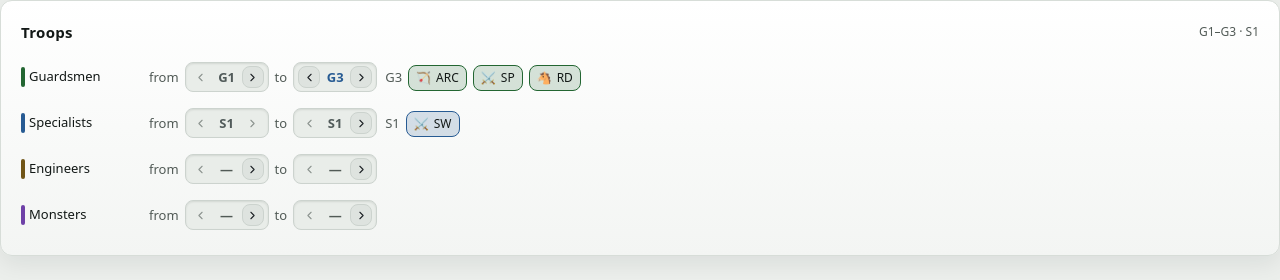
moving the top tier forgets the chips, because they described the tier below
Click the checkbox named "Rider III": (555, 78) [529,65,581,91]
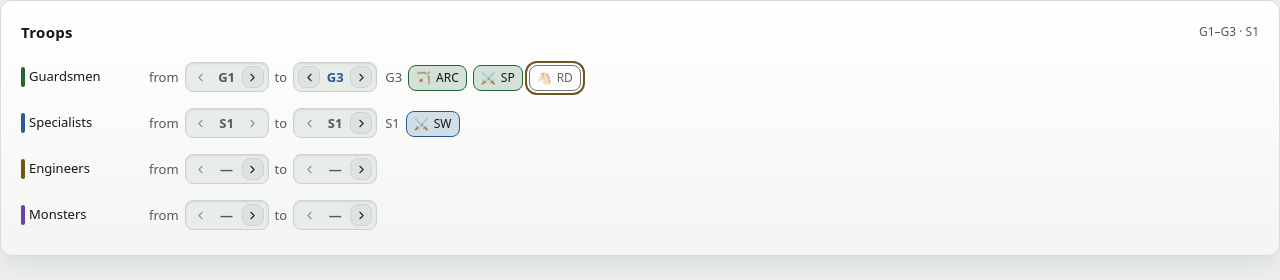
Click the button named "Guardsmen to: one tier up": (361, 77) [350,66,372,88]
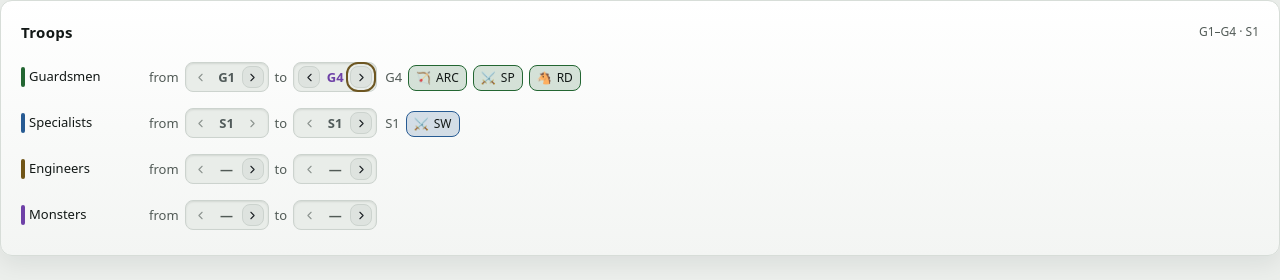
Check: the checkbox named "Rider IV" is checked, box [529,65,581,91]
